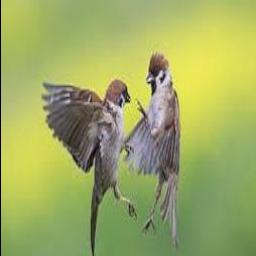Sparrow: (40, 79, 138, 256), (122, 50, 180, 251)
